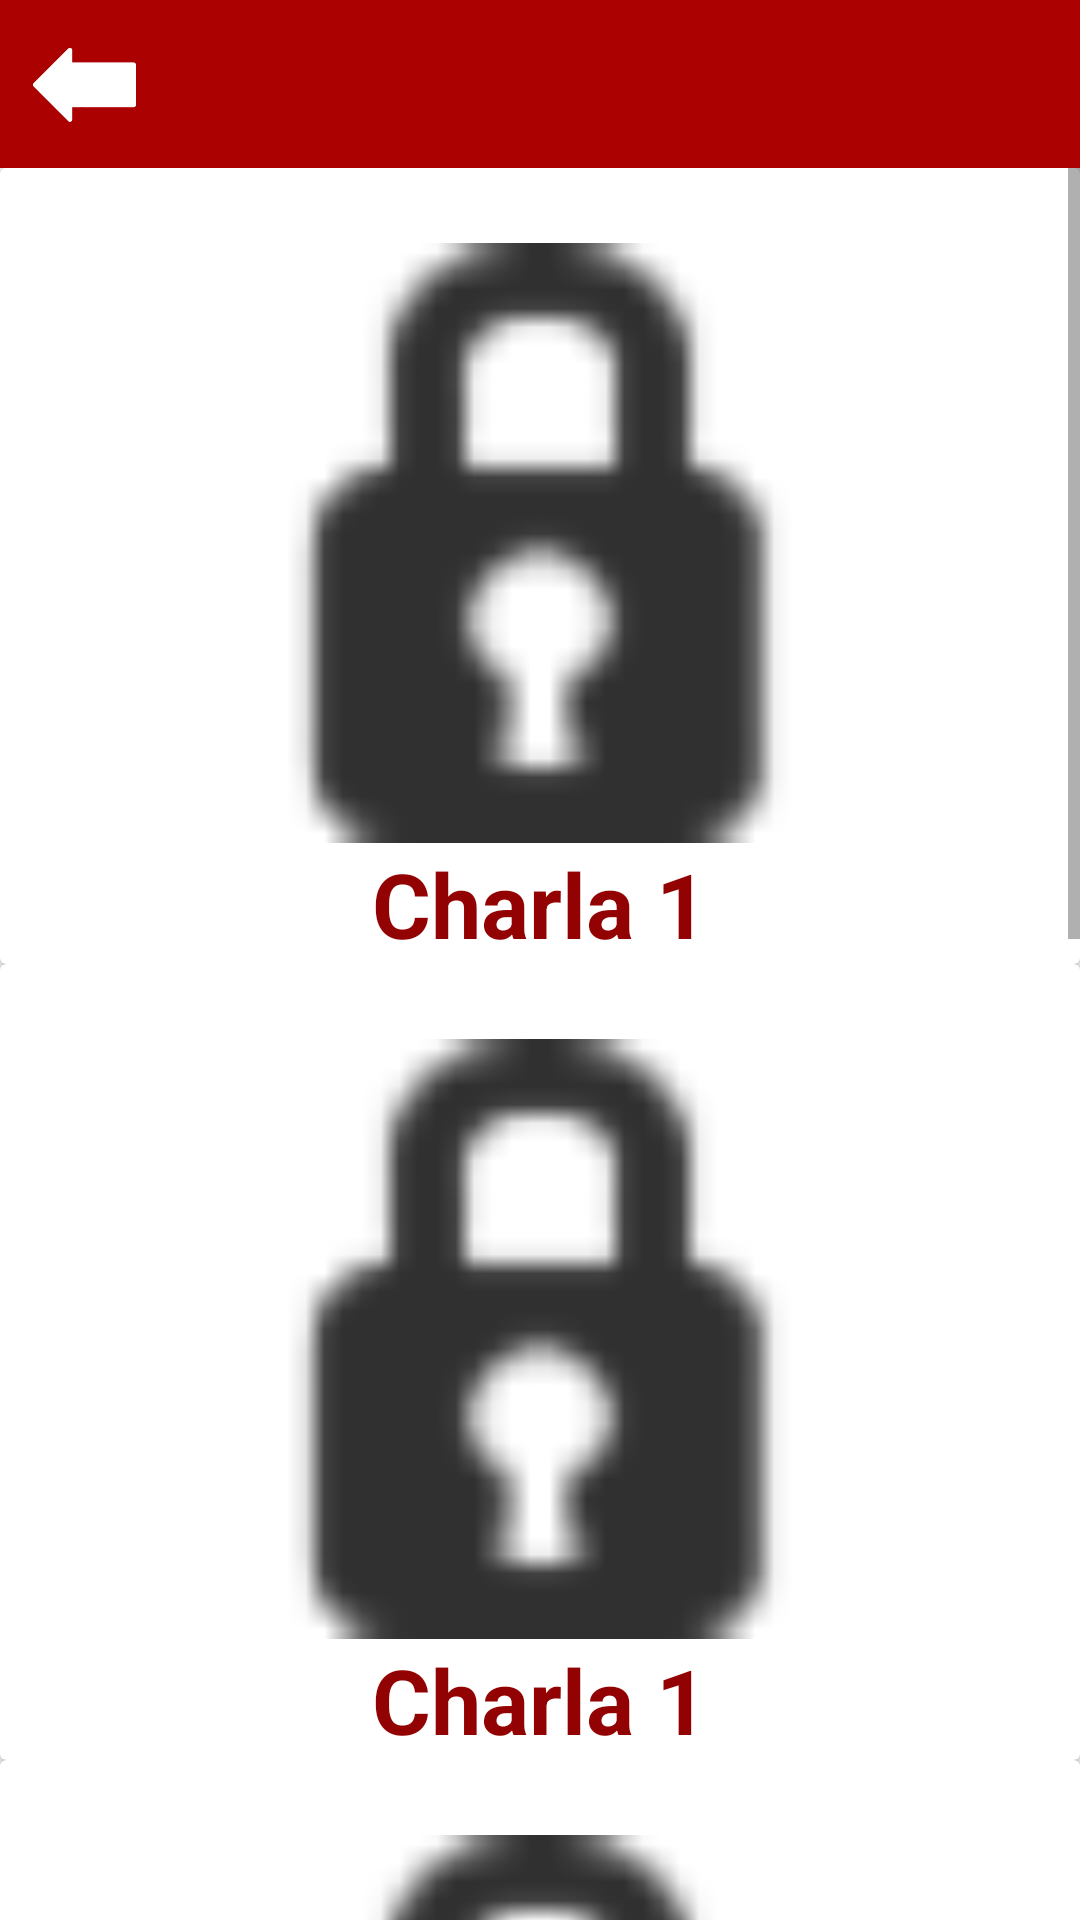

Where to tap for icons on this 1080*1920 app screen, as (x=x, y=y):
back: (x=84, y=85)
